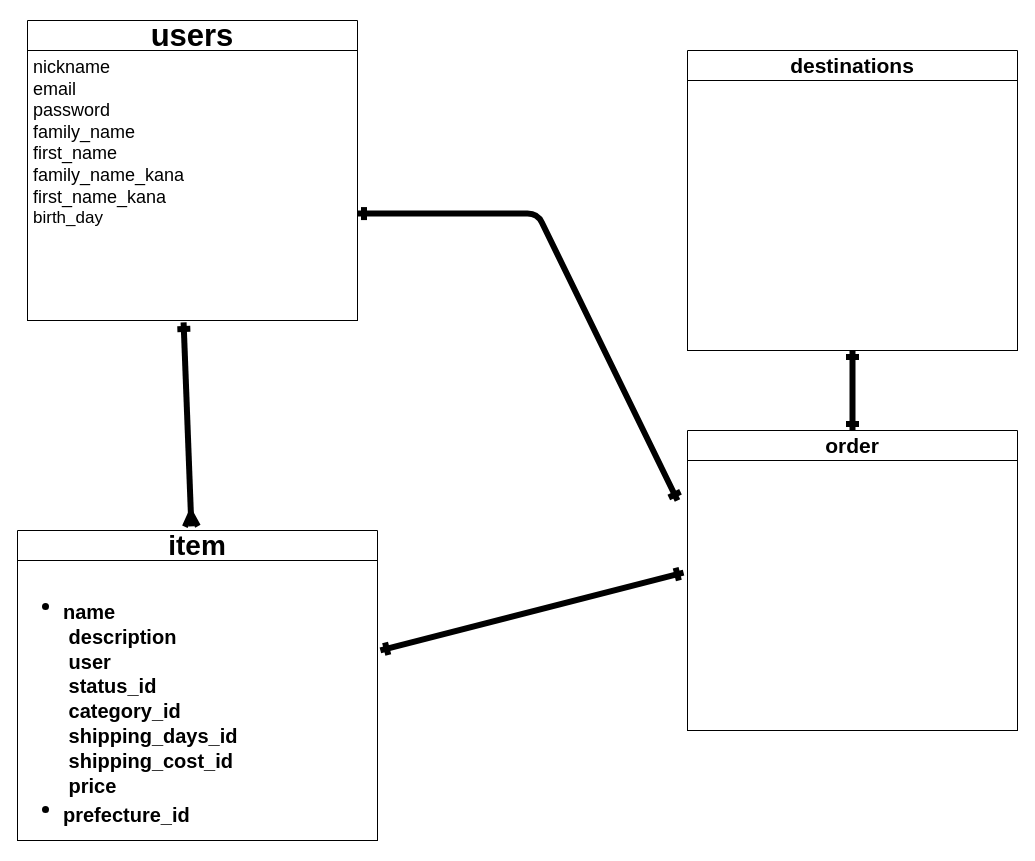
This 1035x861 diagram has some shape labels left out. The centre of each missing label's shape, as x and y in pixels:
"order precture_id post_code city address building_name phone_number" belongs at [852,215].
"user_id item_id" belongs at [852,595].
